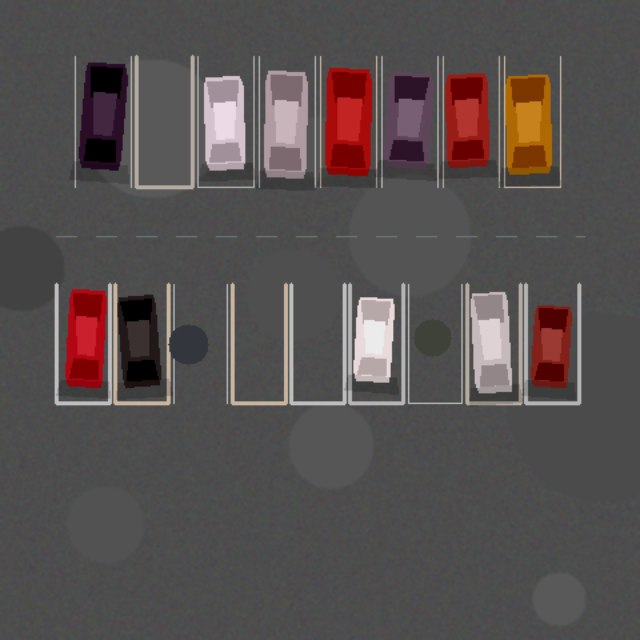space-empty: (136, 56, 192, 187), (173, 284, 227, 403), (232, 284, 285, 403), (291, 284, 344, 403), (408, 284, 461, 403)
space-occupied: (75, 56, 131, 187), (197, 56, 253, 187), (259, 56, 315, 187), (320, 56, 376, 187), (381, 56, 437, 187), (443, 56, 499, 187), (504, 56, 560, 187), (349, 284, 403, 403), (525, 284, 579, 403), (56, 284, 109, 403), (115, 284, 168, 403), (467, 284, 520, 403)
